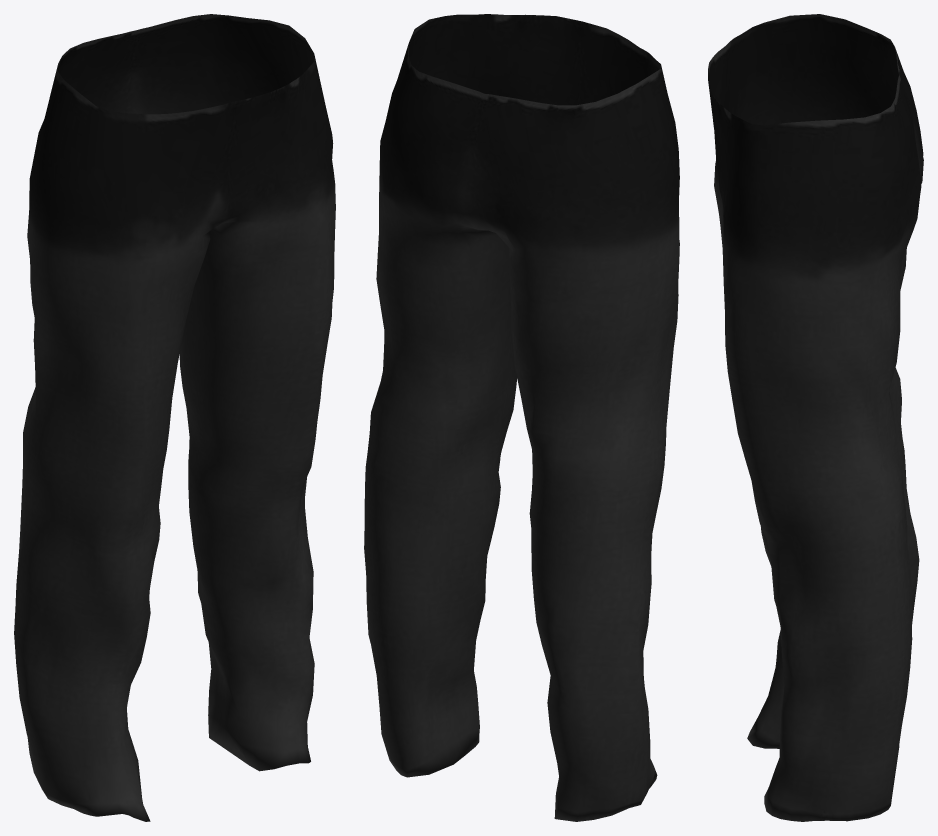
File: bottom_suit_trousers.gltf
3 views of the same model, side by side, from view 1: azimuth 30°, elevation 25°; view 2: azimuth 150°, elevation 25°; view 3: azimuth 270°, elevation 25° (orthographic). The views are drawn at different scales.
Visible parts, largest first — view 1: bottom_suit_trousers; view 2: bottom_suit_trousers; view 3: bottom_suit_trousers.
Boxes of the visible parts, left/top/right/bottom form: bottom_suit_trousers: left=14, top=14, right=335, bottom=821; bottom_suit_trousers: left=364, top=14, right=679, bottom=821; bottom_suit_trousers: left=708, top=14, right=923, bottom=821.
Bounding box in the file's own units: 0.375 × 0.9324 × 0.2573.
Materials: 1 (1 with a texture image).
